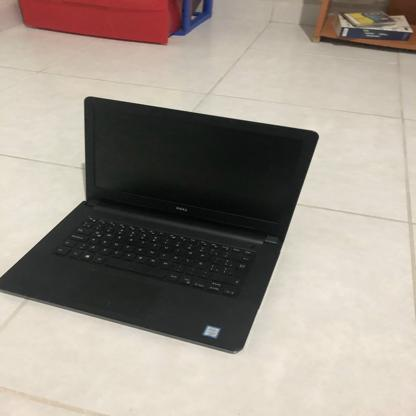laptop: (0, 96, 317, 358)
